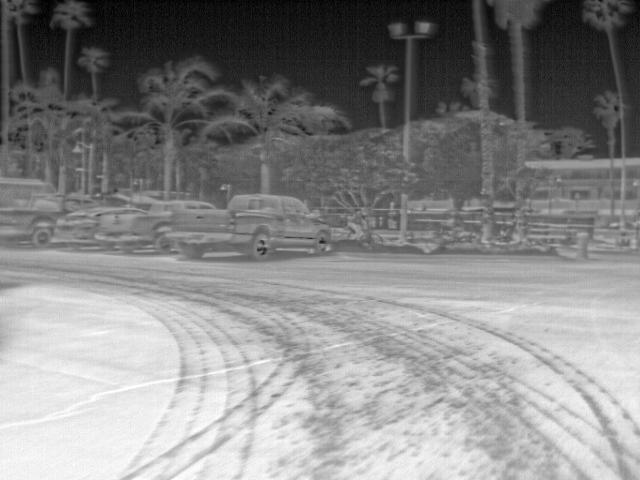car: (163, 192, 330, 261), (93, 199, 218, 253), (52, 206, 147, 252), (0, 208, 63, 250)
person: (347, 206, 369, 239)
